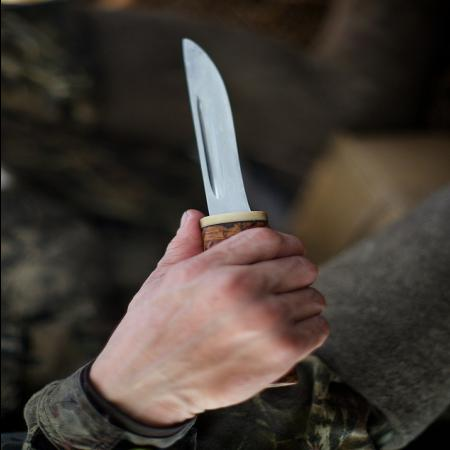long weapon: (152, 30, 329, 315)
